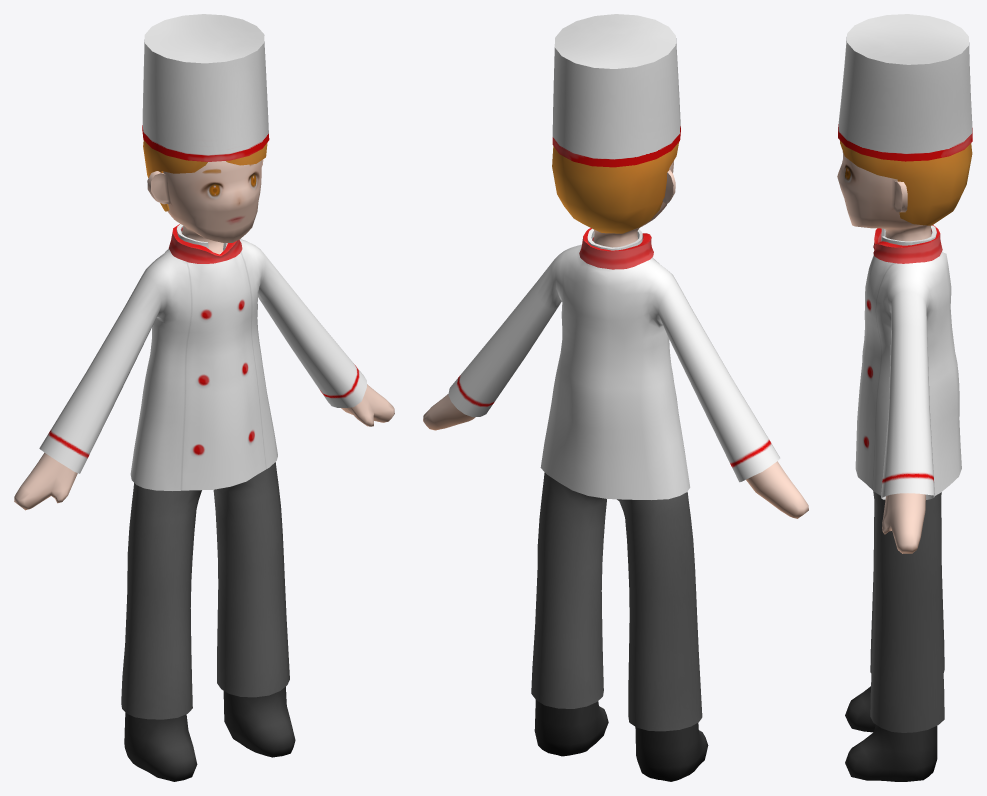
3 renders of one model, left to right at view 1: azimuth 30°, elevation 25°; view 2: azimuth 150°, elevation 25°; view 3: azimuth 270°, elevation 25°, orthographic.
Visible parts, largest first — view 1: Group023, Box022, Cylinder009, Box003; view 2: Group023, Cylinder009, Box022, Box003; view 3: Group023, Cylinder009, Box022, Box003.
Boxes of the visible parts, left/top/right/bottom form: Group023: left=39, top=223, right=366, bottom=719; Box022: left=14, top=159, right=394, bottom=781; Cylinder009: left=142, top=14, right=269, bottom=161; Box003: left=143, top=140, right=267, bottom=211; Group023: left=448, top=228, right=780, bottom=731; Cylinder009: left=552, top=14, right=680, bottom=167; Box022: left=423, top=161, right=808, bottom=781; Box003: left=552, top=142, right=678, bottom=233; Group023: left=855, top=225, right=961, bottom=732; Cylinder009: left=838, top=14, right=972, bottom=161; Box022: left=837, top=151, right=937, bottom=781; Box003: left=840, top=141, right=972, bottom=225.
Size of the model in its own units: 85.36 by 26.56 by 154.
Materials: 6 (6 with a texture image).
